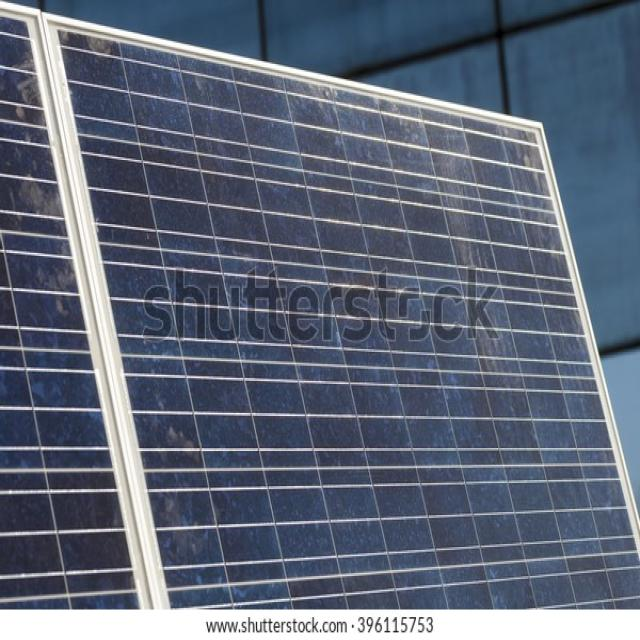dust-solar-panel: (4, 27, 640, 604)
